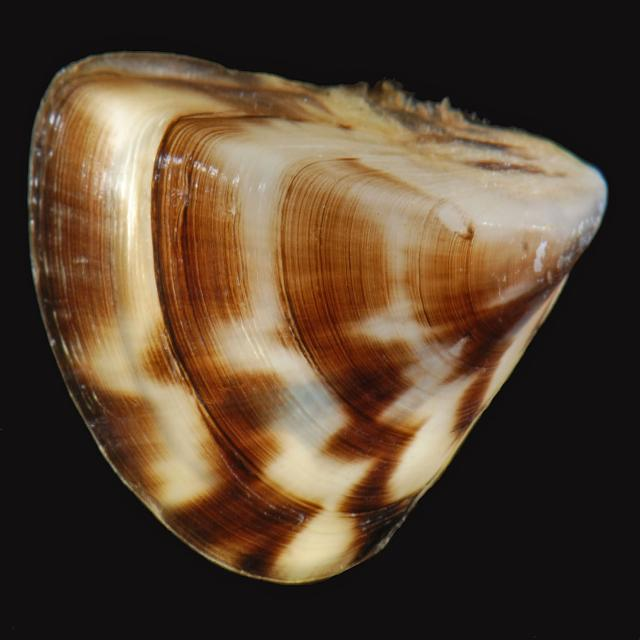Dreissena_polymorpha: (30, 54, 609, 580)
